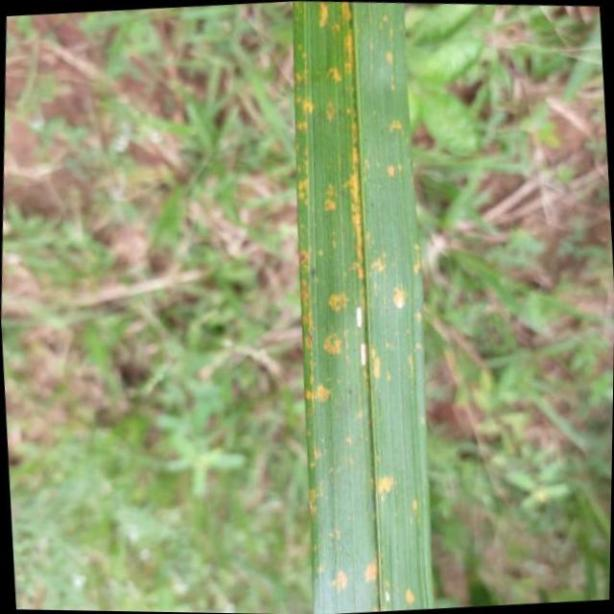Kalium: (298, 0, 430, 614)
